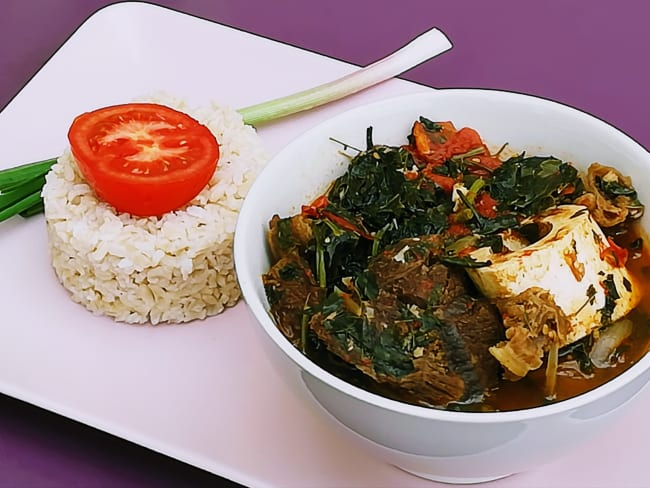brèves mafane: (535, 246, 624, 307)
feuille de moringa: (363, 155, 414, 224)
oignon: (596, 328, 617, 361)
poiro: (265, 82, 350, 104)
riz: (56, 192, 101, 289)
tomate: (89, 108, 214, 171), (423, 127, 487, 151)
viande de boeuf: (390, 262, 482, 355)
